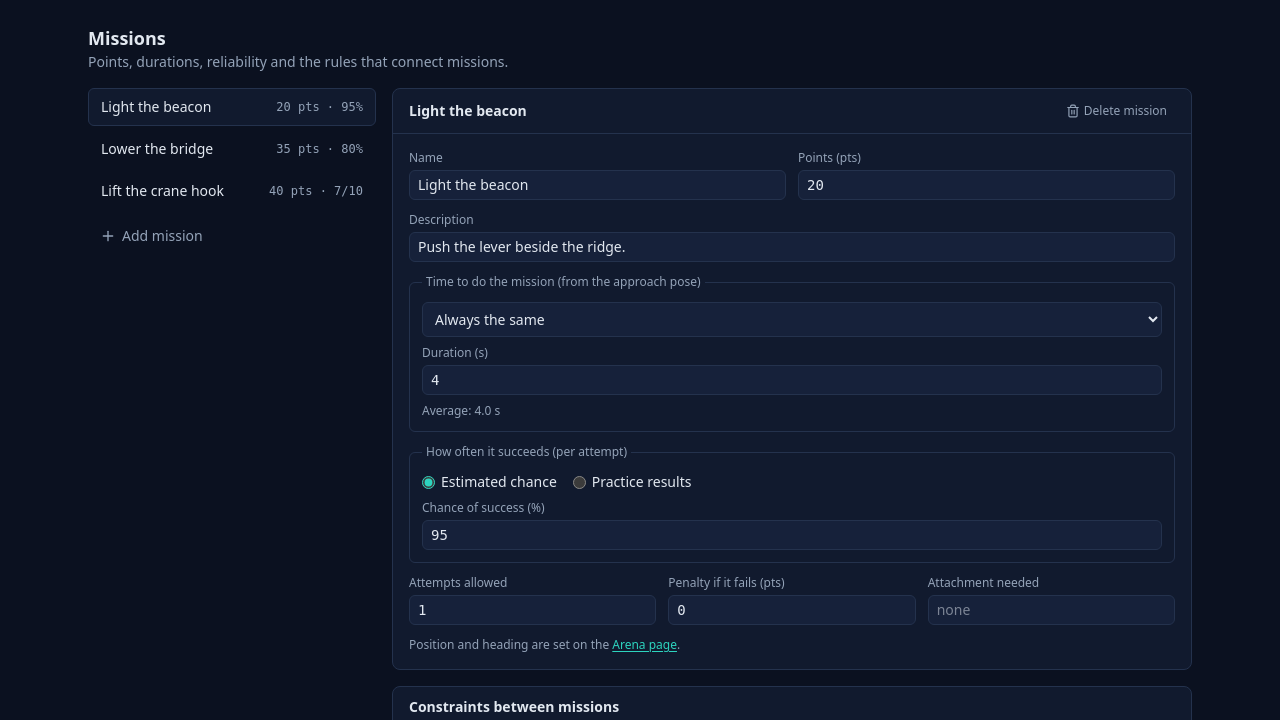
Test: MissionsPage › switches success to practice counts and shows the estimate
The width and height of the screenshot is (1280, 720).
What coordinates should you click on to do the following:
click the button "Light the beacon 20 pts · 95%"
I would click on:
 (156, 106)
Its box is [88, 88, 376, 126].
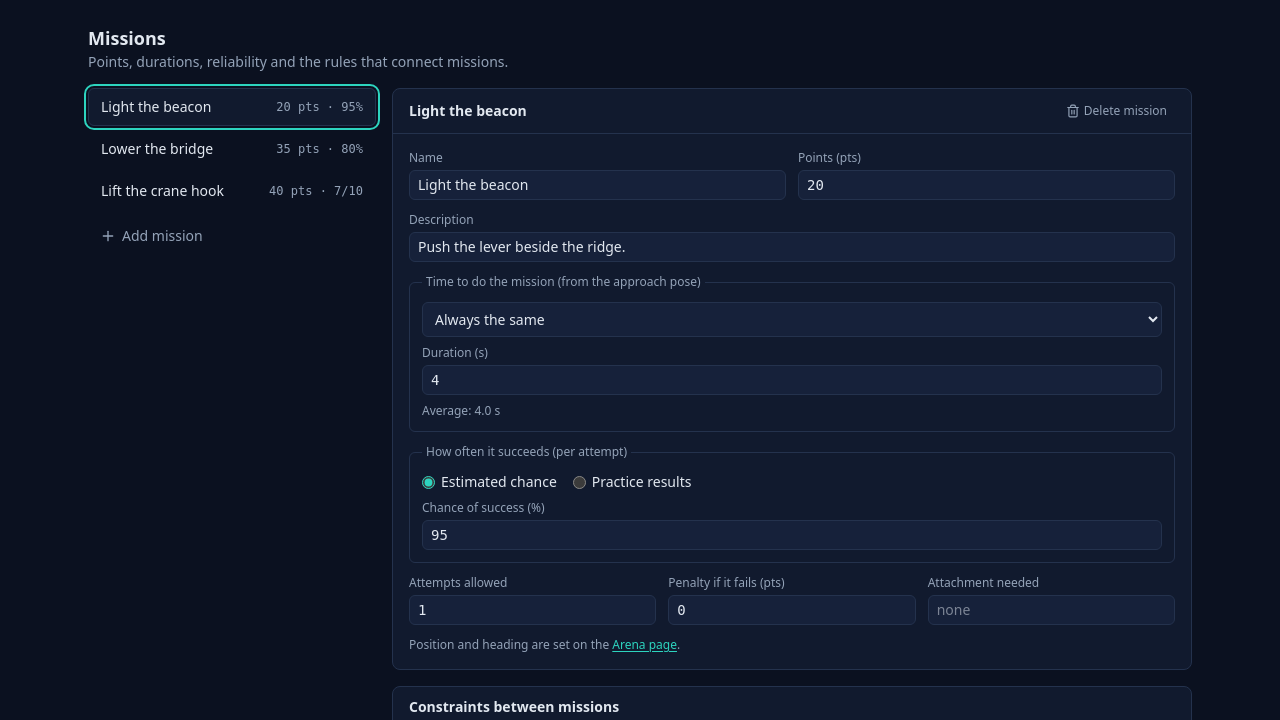
What coordinates should you click on to do the following:
click the radio button labelled "Practice results"
I would click on:
 (579, 482)
Its box is [573, 476, 586, 488].
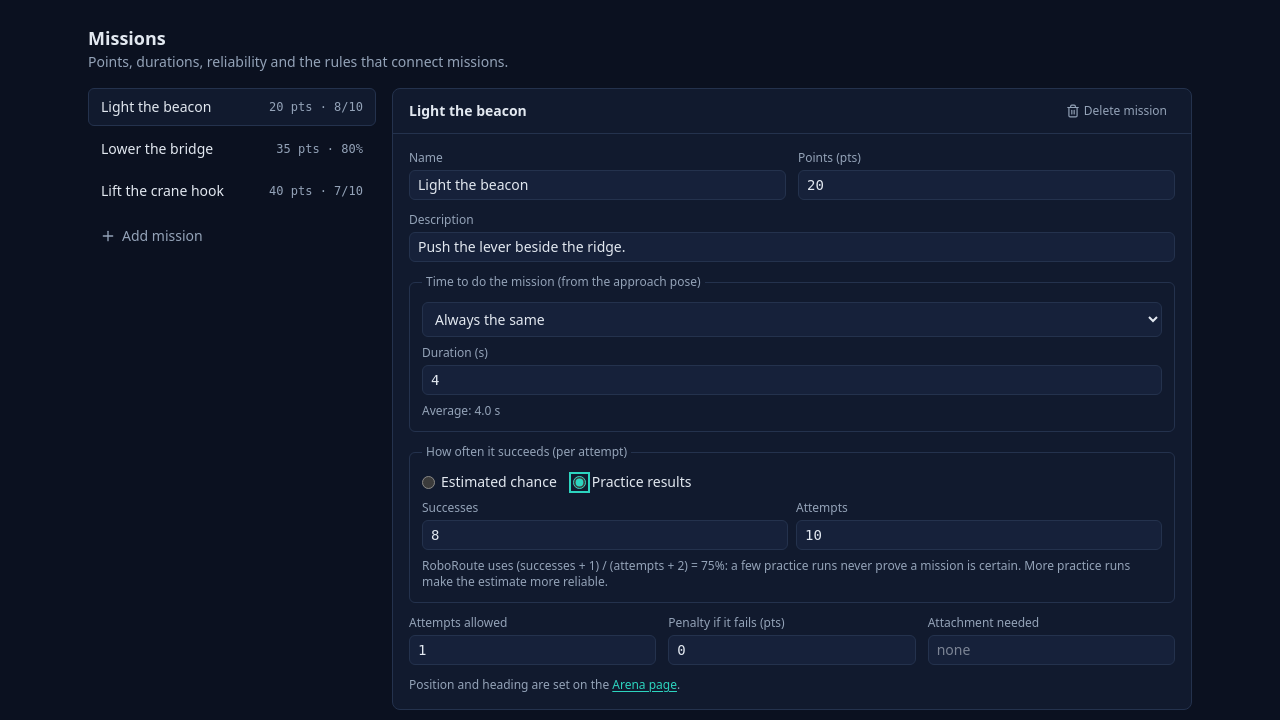
Check: the text "RoboRoute uses" is shown, box [422, 557, 698, 574]
